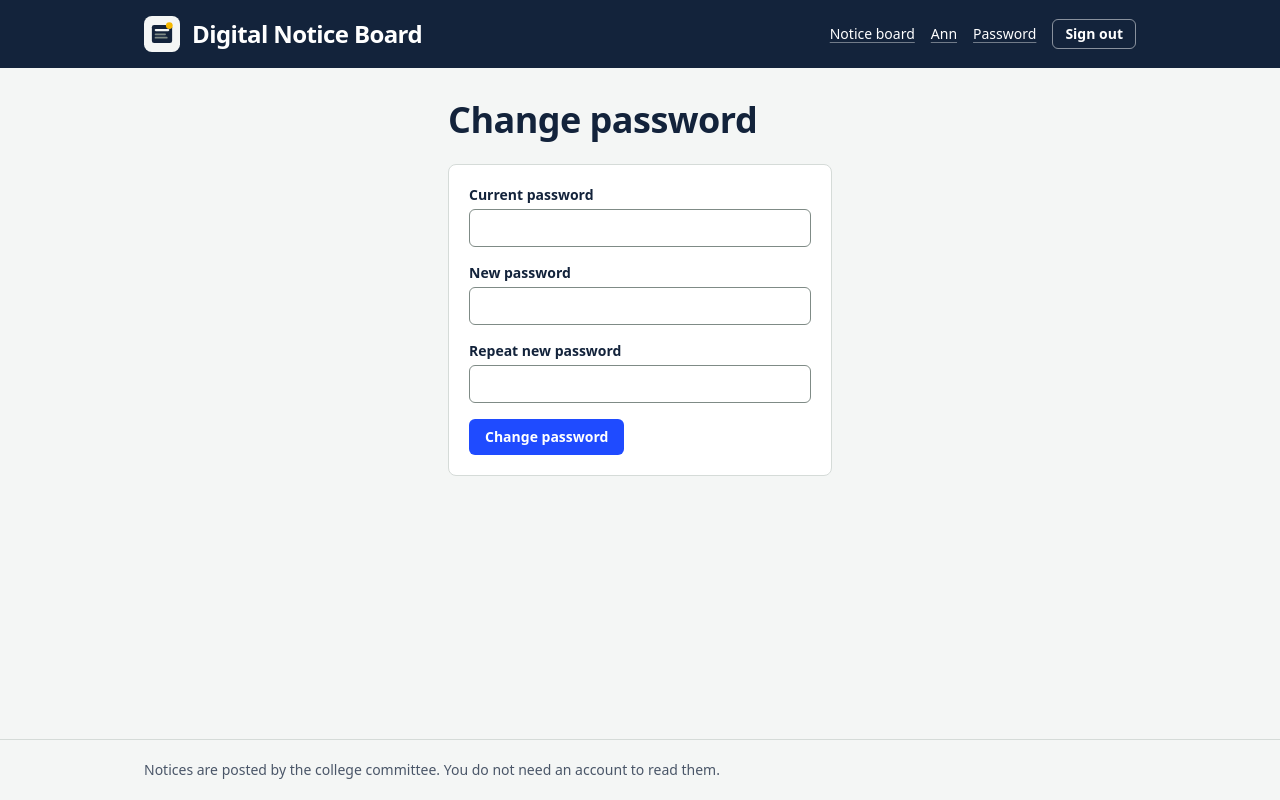
change password page › shows a general message when the request fails
Expected: the heading "Change password" is shown, [448,95,757,144]
Type "old-password" into the password field labelled "Current password".
click(640, 228); type("old-password")  # box [469,209,811,247]
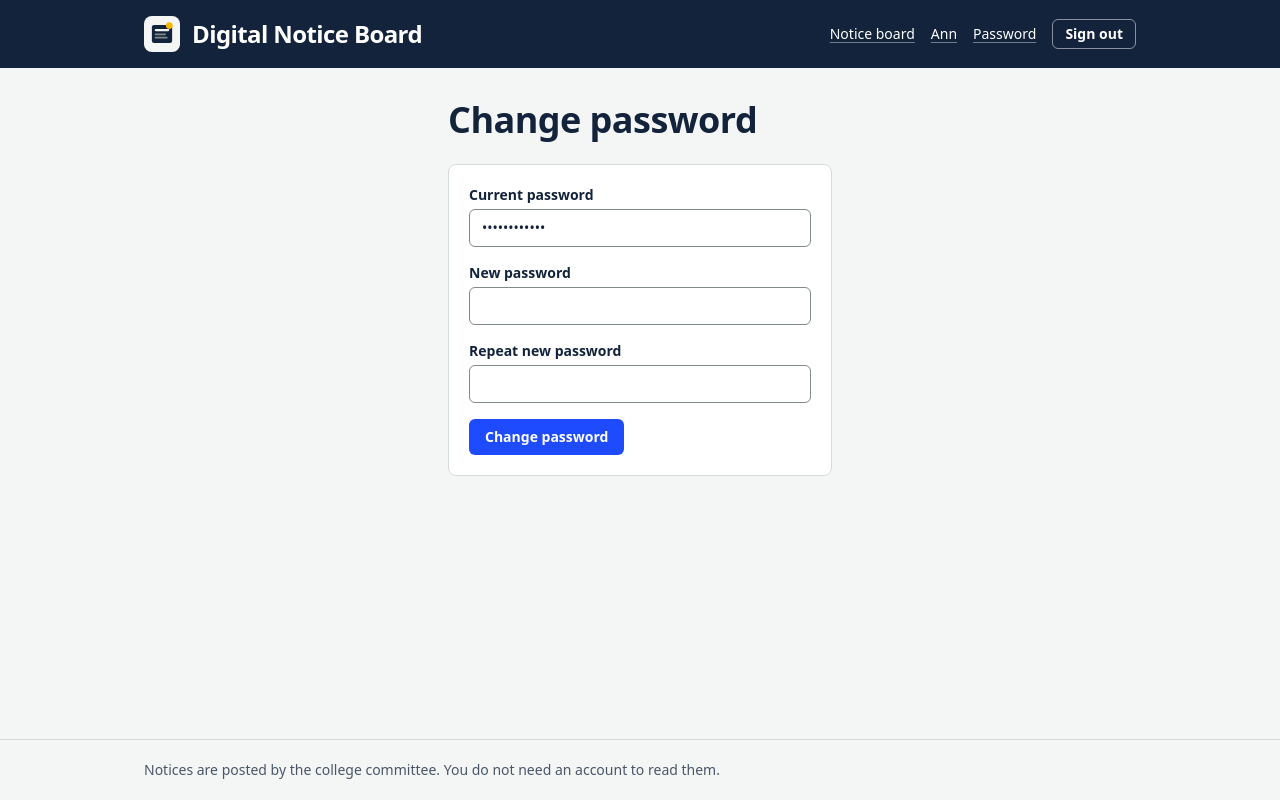
Type "a-long-new-password" into the password field labelled "New password".
click(640, 306); type("a-long-new-password")  # box [469,287,811,325]
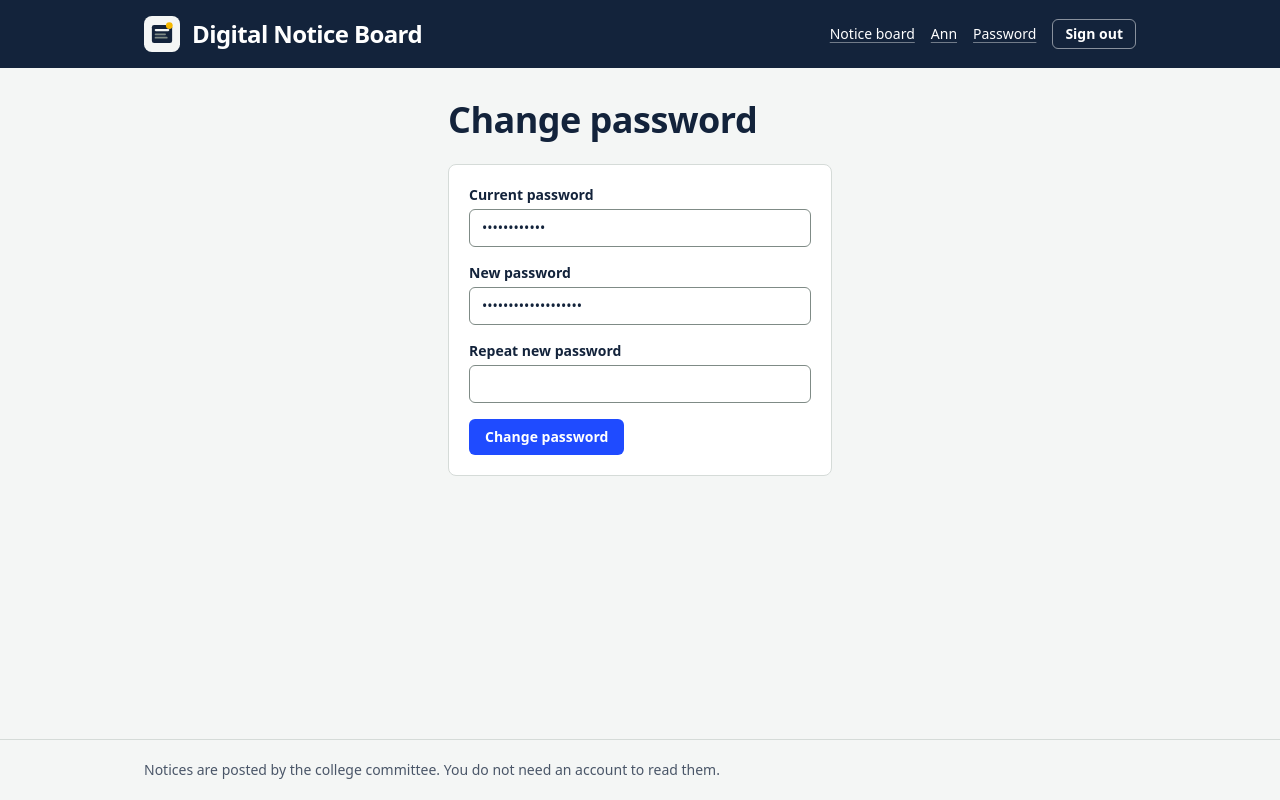
Type "a-long-new-password" into the password field labelled "Repeat new password".
click(640, 384); type("a-long-new-password")  # box [469,365,811,403]
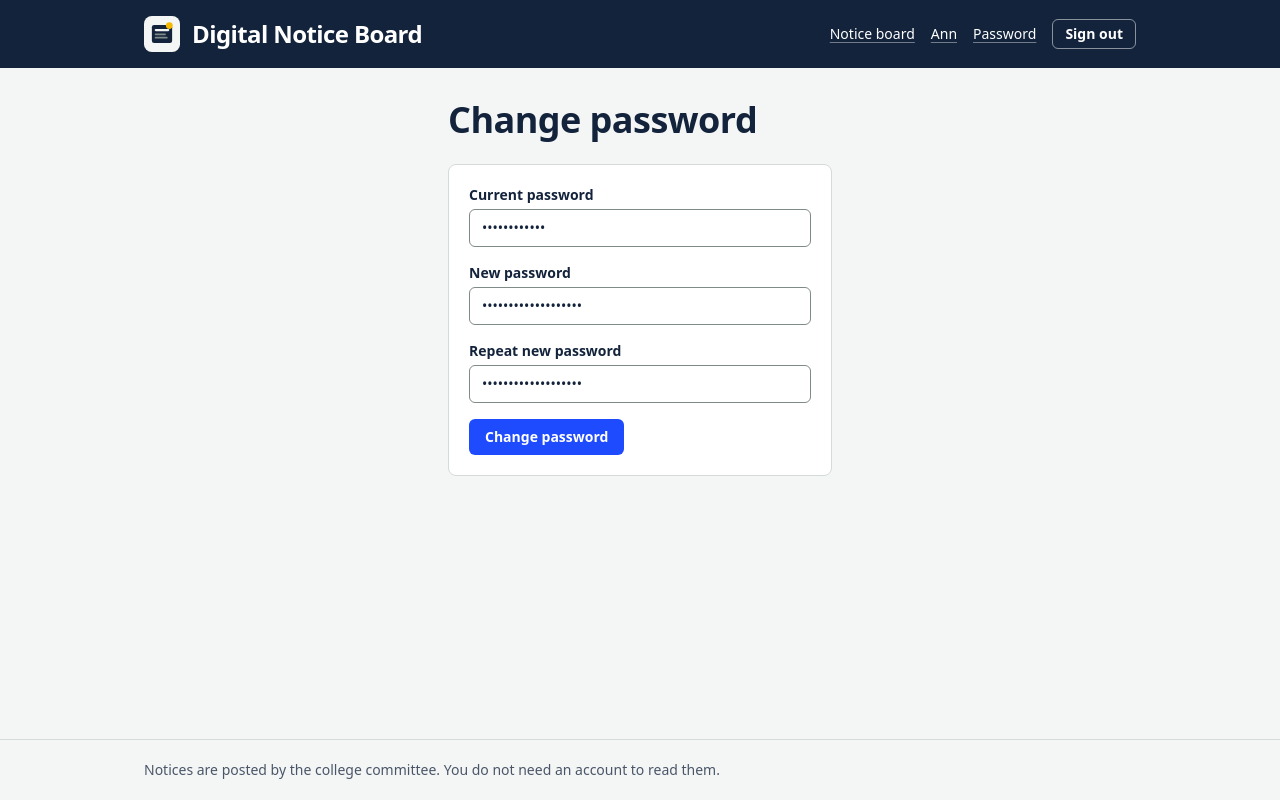
Click the button "Change password".
click(547, 437)  # box [469,419,624,455]
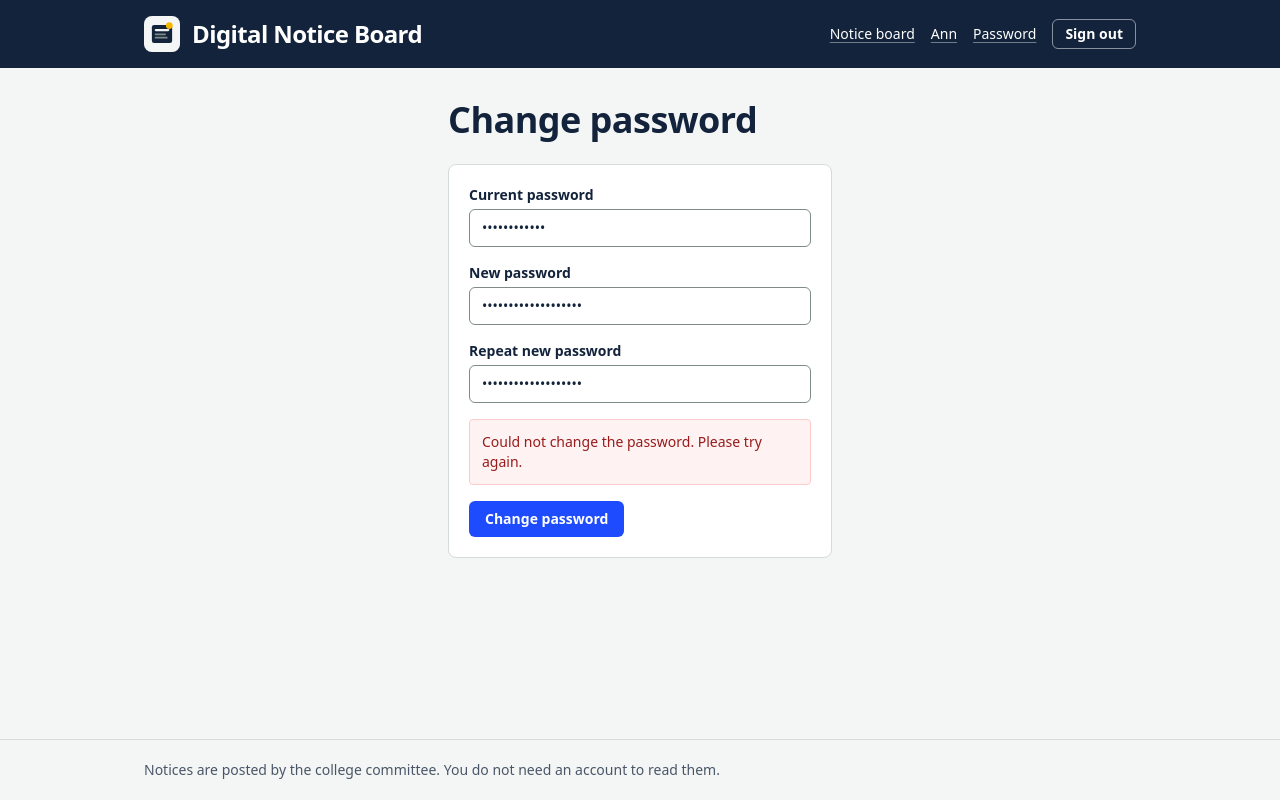
Expected: the message shows "Could not change the password", [482,432,762,471]
